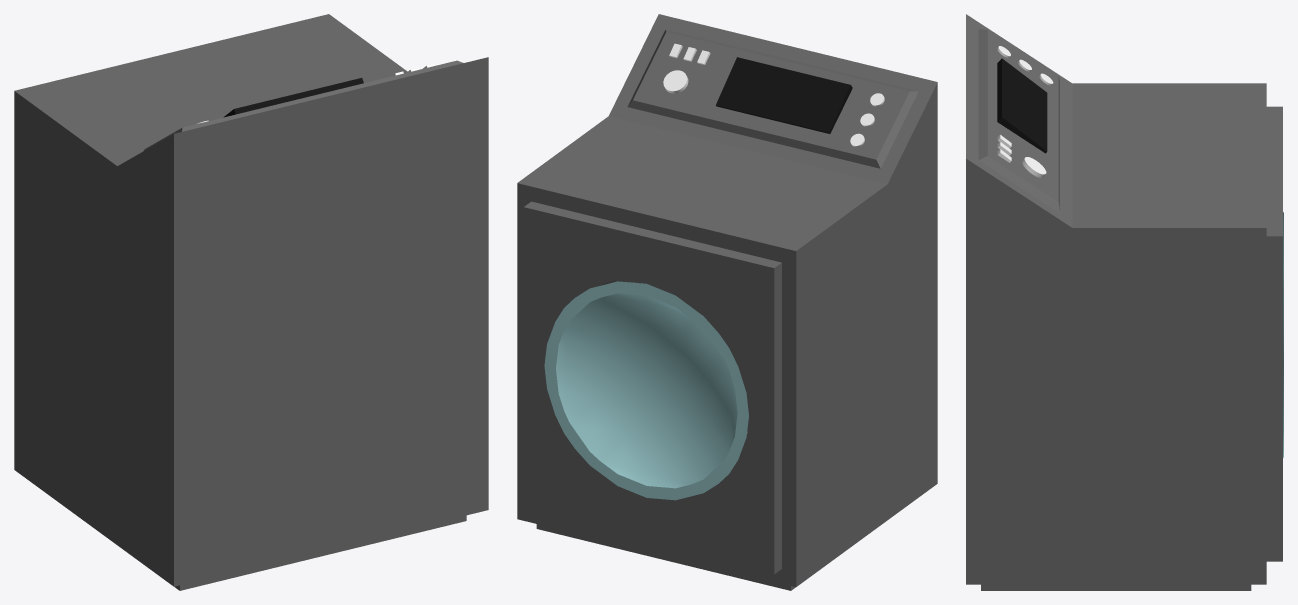
Rendered from Dryer.FBX.
3 views of the same model, side by side, from view 1: azimuth 30°, elevation 25°; view 2: azimuth 150°, elevation 25°; view 3: azimuth 270°, elevation 25° (orthographic). The views are drawn at different scales.
Parts seen in each view (by area): view 1: Box001, Box002; view 2: Box001, Sphere001, Box002; view 3: Box001, Box002.
Part boxes in pixels (x1=…): Box001: x1=14, y1=14, x2=488, y2=590; Box002: x1=223, y1=78, x2=363, y2=117; Box001: x1=517, y1=14, x2=937, y2=590; Sphere001: x1=544, y1=281, x2=748, y2=500; Box002: x1=716, y1=57, x2=852, y2=133; Box001: x1=966, y1=14, x2=1282, y2=590; Box002: x1=997, y1=58, x2=1047, y2=153.
Size of the model in its own units: 60.03 by 85 by 55.82.
